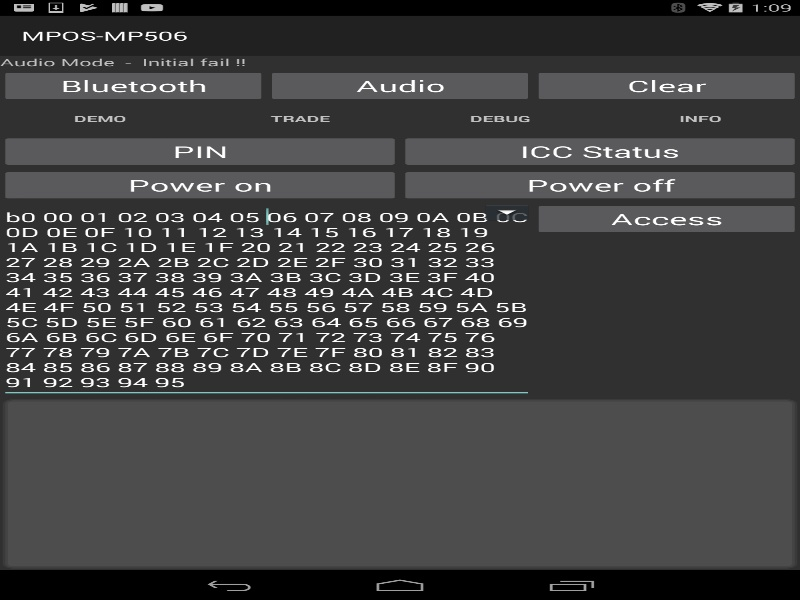Button: (0, 134, 400, 168), (400, 134, 800, 168), (0, 168, 400, 202), (400, 168, 800, 202), (266, 69, 533, 102), (533, 69, 800, 102), (533, 202, 800, 235), (0, 69, 266, 102), (480, 202, 533, 222)
Input: (0, 202, 533, 397)
